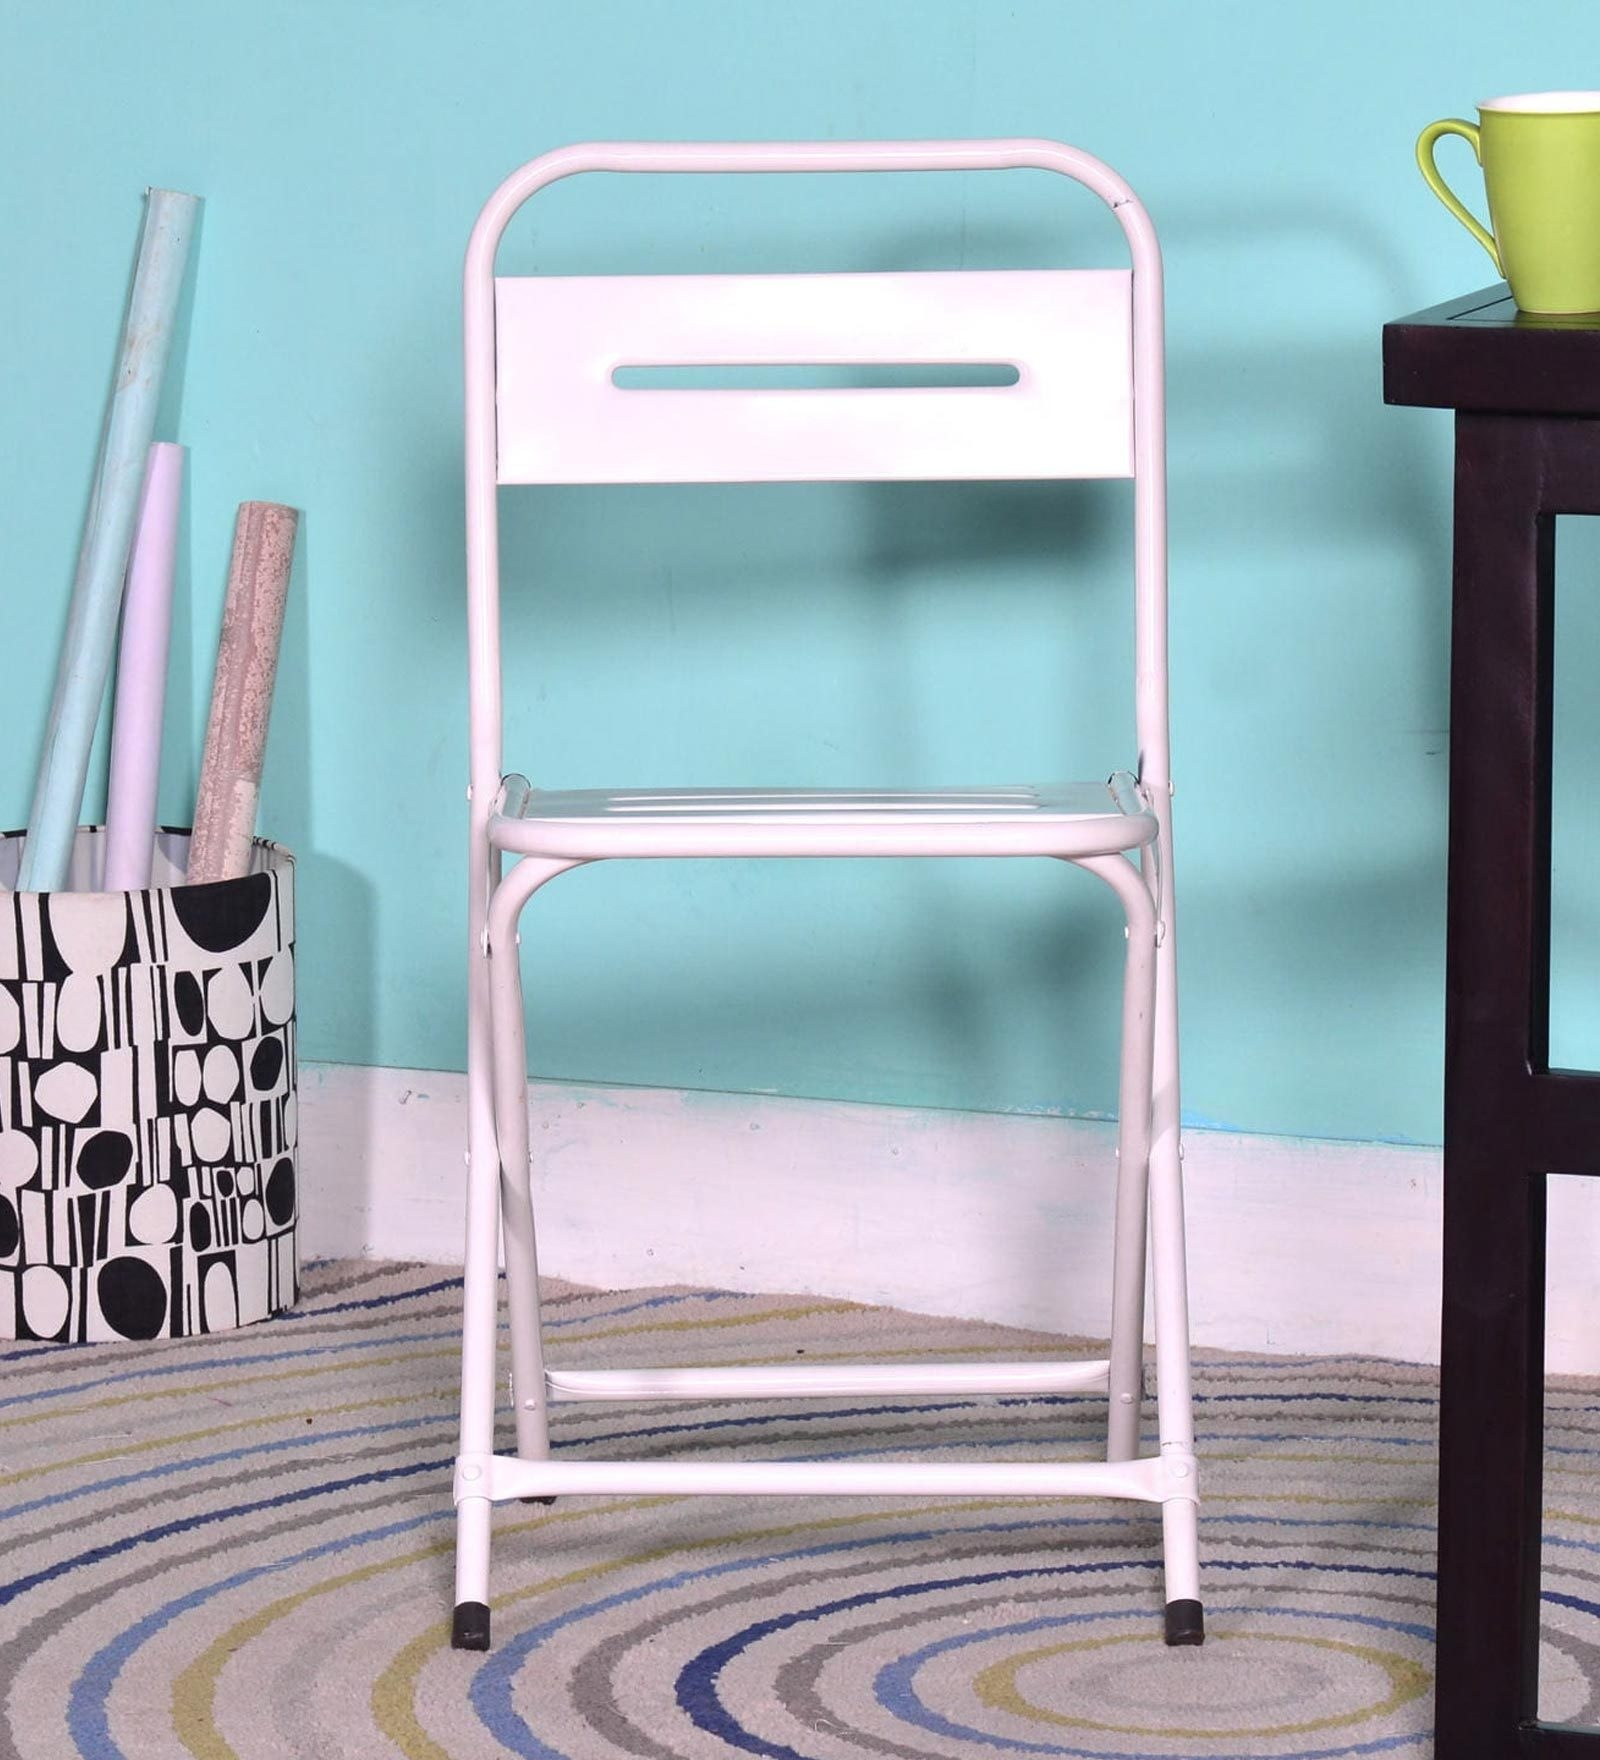Marandoo Grunge White Outdoor Folding Chair by Bohemiana: (434, 112, 1221, 1656)
